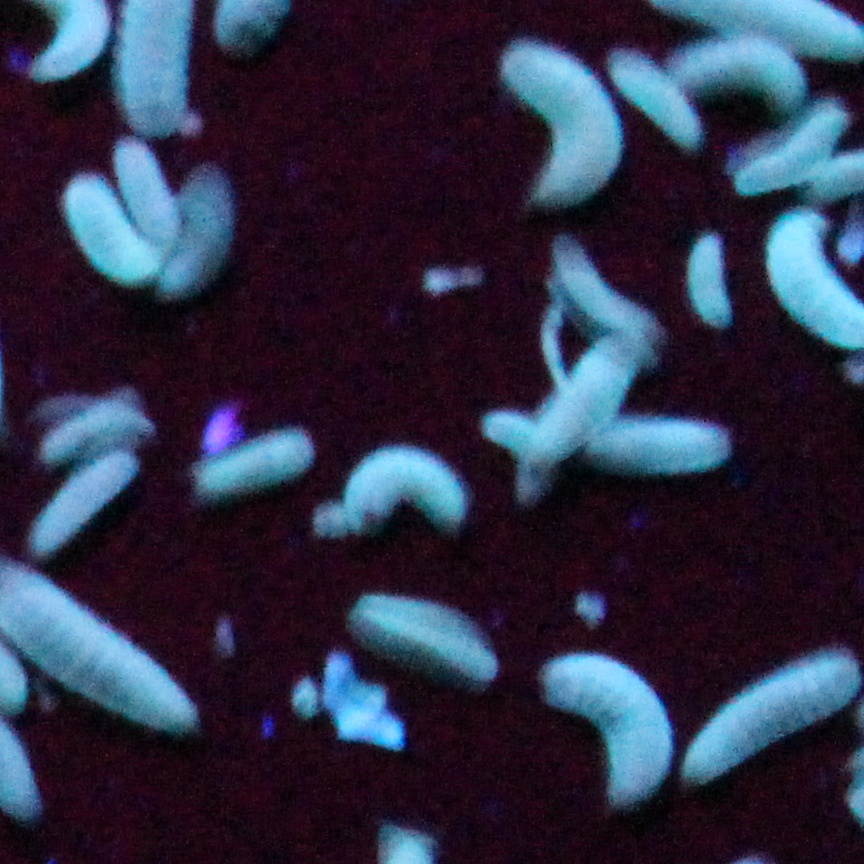larve: (680, 647, 864, 784), (495, 28, 626, 217), (539, 647, 670, 809), (526, 336, 647, 457), (22, 447, 143, 565), (349, 601, 499, 686), (549, 236, 662, 347), (62, 176, 174, 276), (609, 44, 709, 155), (339, 442, 472, 524), (672, 36, 807, 115), (737, 103, 847, 186), (162, 161, 230, 290), (109, 140, 184, 251), (193, 428, 322, 492), (591, 419, 734, 476), (484, 413, 549, 509), (687, 234, 739, 328)
